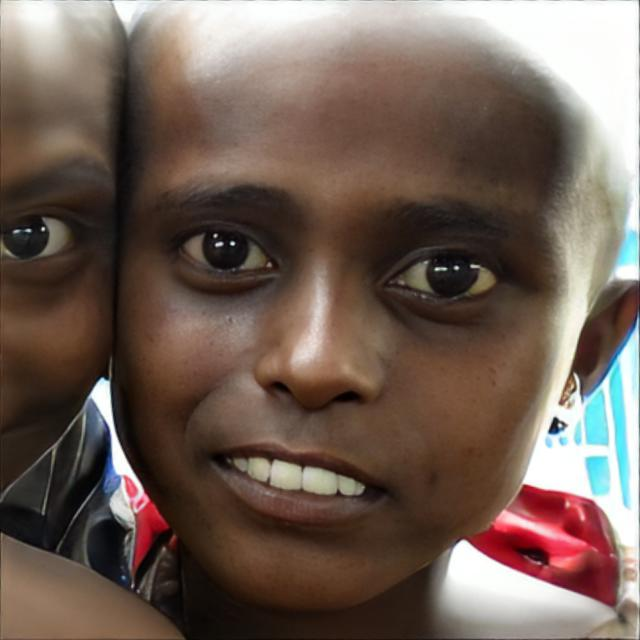content: (117, 24, 547, 608)
